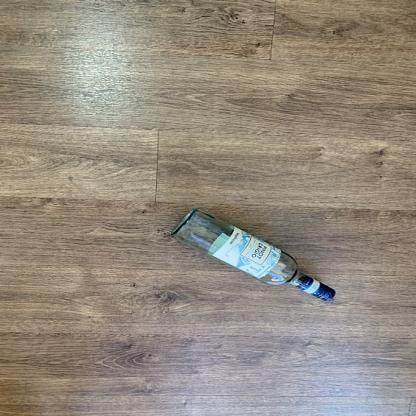trash: (170, 208, 340, 303)
